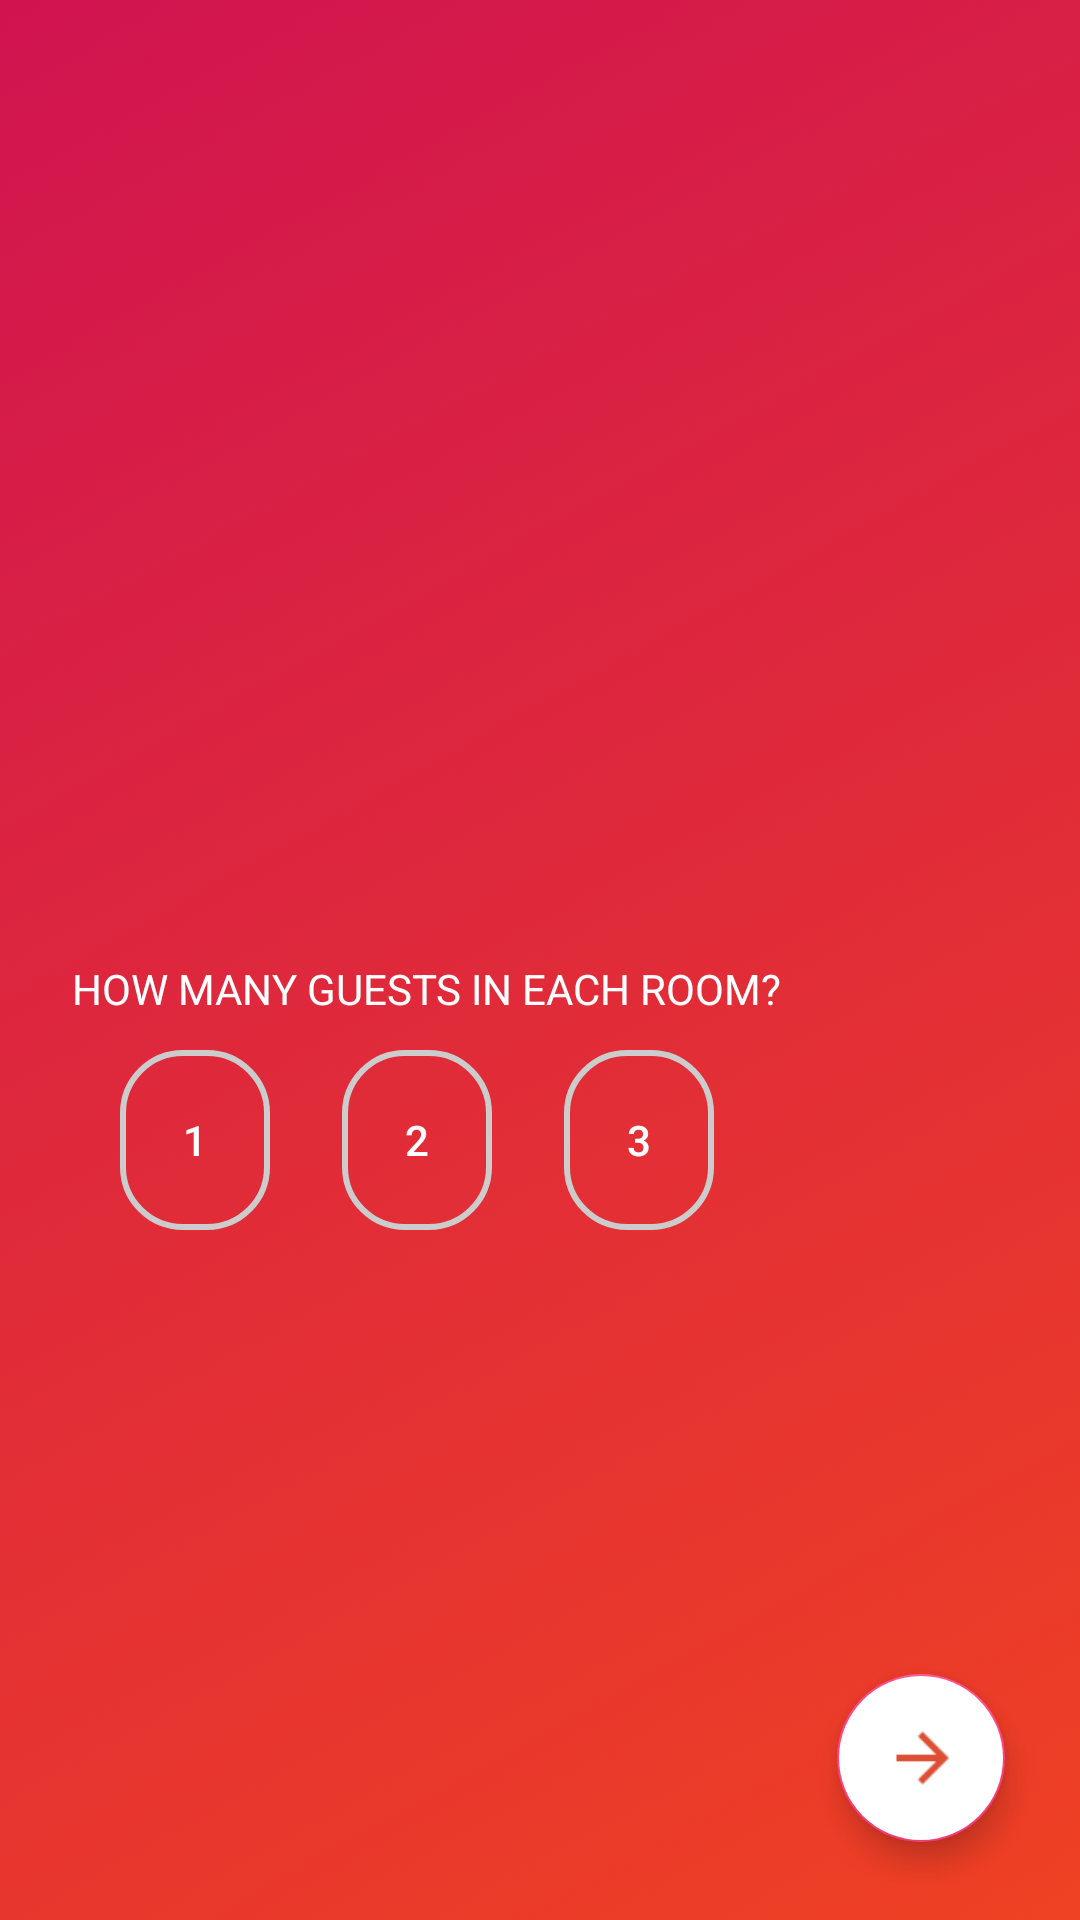

Icons on this 1080x1920 Android screen, each with the point to tap as (x=x, y=y):
arrow: (x=921, y=1758)
